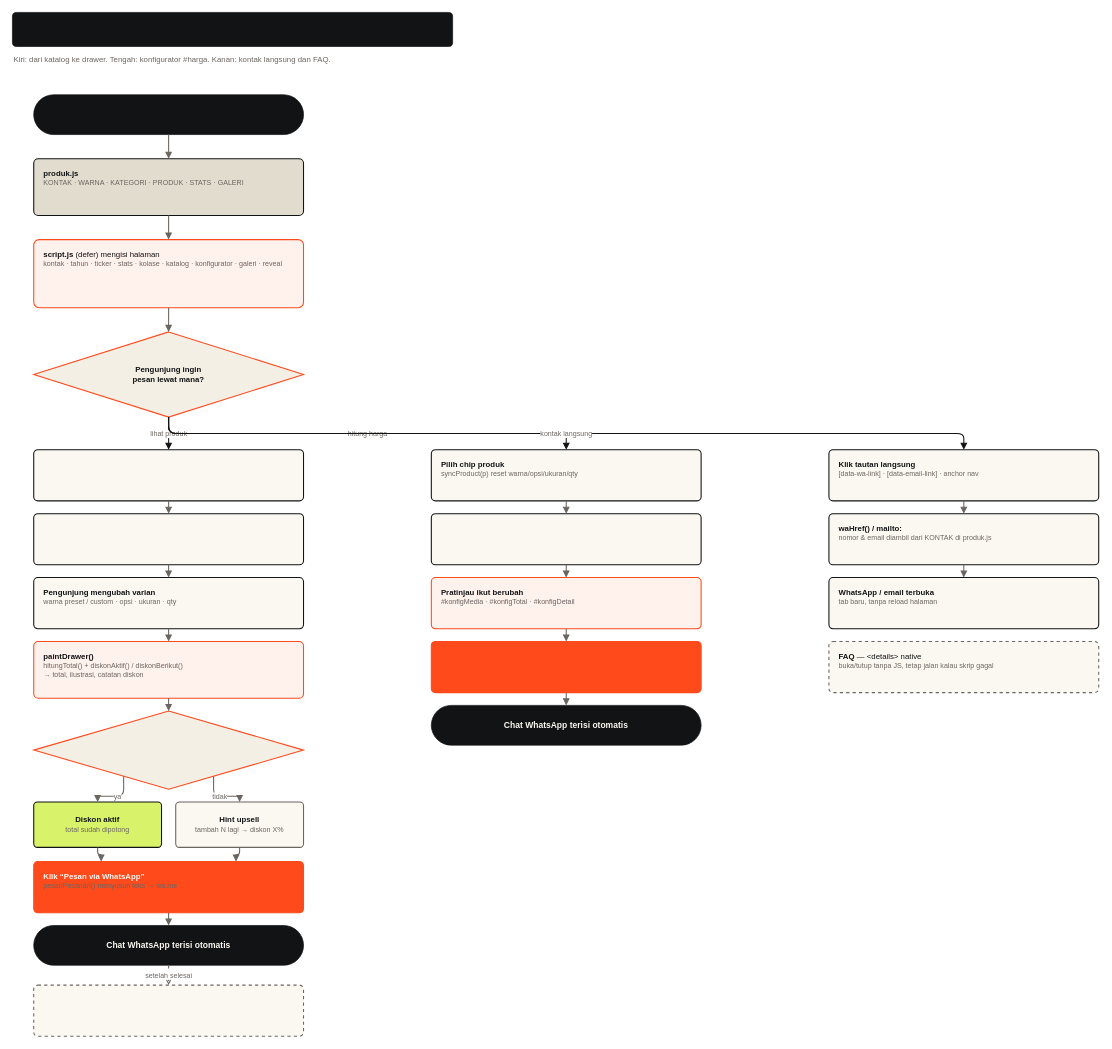
The diagram is 1112 pixels wide and 1049 high, and some of its shapes have lost their labels. The shapes that lost their labels are listed below. From the top down, each one's centre as x and y in pixels, then its label:
the point at 232,29: KTUBA — alur pengguna & rantai fungsi
the point at 168,114: Pengunjung membuka index.html
the point at 168,475: Klik kartu produk / tombol + [data-open] → openDrawer(id)
the point at 168,539: State drawer dibuat warna[0] · opsi 0 tiap grup · ukuran[0] · qty = moq
the point at 565,539: Ubah warna / opsi / ukuran / qty setiap klik memanggil paint()
the point at 565,667: Klik #konfigOrder pesanPesanan() → wa.me
the point at 168,749: qty memenuhi syarat diskon?
the point at 168,1010: Tutup drawer X · scrim · Escape → closePanelFn() + fokus kembali
